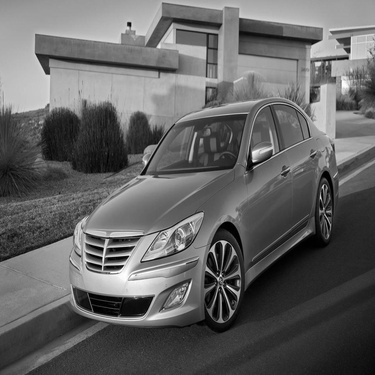car: (62, 89, 335, 325)
